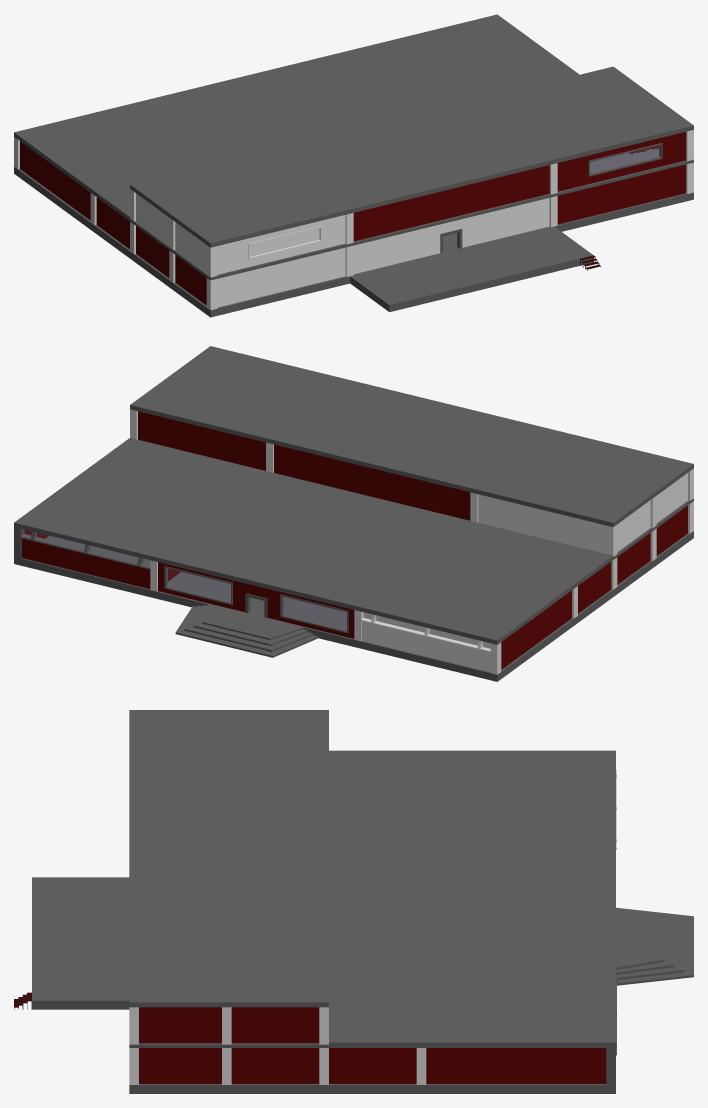
The model's file is Market.fbx.
3 views of the same model, one above another, from view 1: azimuth 30°, elevation 25°; view 2: azimuth 150°, elevation 25°; view 3: azimuth 270°, elevation 25° (orthographic). The views are drawn at different scales.
Parts seen in each view (by area): view 1: Крыша_2, Крыша_1, ММ, Стена_5, Рампа_2, Стена_л_4_Инстанция, Стена_л_4, 2_этаж, Стена_1, Стена_1_Инстанция, Стена_R4, Стена_R3 (+8 smaller); view 2: Крыша_1, Крыша_2, ММ, Стена_4, Ступеньки_входа, Стена_Инстанция, Стена, Стена__1_, Стена__1__Инстанция, Вход, Стекло, Стена_R4 (+10 smaller); view 3: Крыша_1, Крыша_2, ММ, Стена_L4, Ступеньки_входа, Стена_2, Стена_L2, Стена_L3, Стена_3, Стена_L1, 2_этаж.
Part boxes in pixels (x1,y1,x2,y2): Крыша_2: (130, 66, 693, 247); Крыша_1: (14, 14, 579, 221); ММ: (14, 167, 693, 317); Стена_5: (353, 165, 549, 241); Рампа_2: (353, 198, 549, 274); Стена_л_4_Инстанция: (217, 247, 345, 307); Стена_л_4: (557, 164, 685, 224); 2_этаж: (130, 148, 693, 280); Стена_1: (557, 132, 685, 191); Стена_1_Инстанция: (217, 215, 345, 274); Стена_R4: (20, 141, 90, 220); Стена_R3: (96, 197, 129, 248); Крыша_1: (14, 438, 613, 644); Крыша_2: (130, 346, 693, 527); ММ: (14, 531, 693, 681); Стена_4: (274, 444, 470, 520); Ступеньки_входа: (175, 604, 318, 657); Стена_Инстанция: (478, 494, 606, 553); Стена: (138, 411, 265, 470); Стена__1_: (21, 538, 150, 589); Стена__1__Инстанция: (362, 621, 490, 672); Вход: (158, 562, 354, 638); Стекло: (167, 569, 346, 629); Стена_R4: (501, 590, 571, 669); Крыша_1: (329, 750, 615, 1047); Крыша_2: (129, 710, 328, 1007); ММ: (32, 877, 615, 1093); Стена_L4: (426, 1048, 606, 1083); Ступеньки_входа: (616, 907, 693, 985); Стена_2: (231, 1007, 319, 1043); Стена_L2: (231, 1048, 319, 1083); Стена_L3: (329, 1048, 416, 1083); Стена_3: (139, 1007, 221, 1043); Стена_L1: (139, 1048, 221, 1083); 2_этаж: (129, 1043, 328, 1047).
Bounding box in the file's own units: 7100 × 1040 × 6985.
